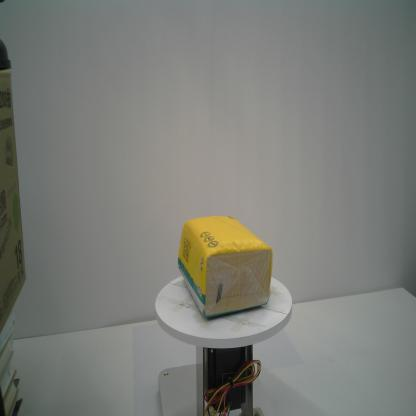Tissue: (176, 215, 273, 318)
